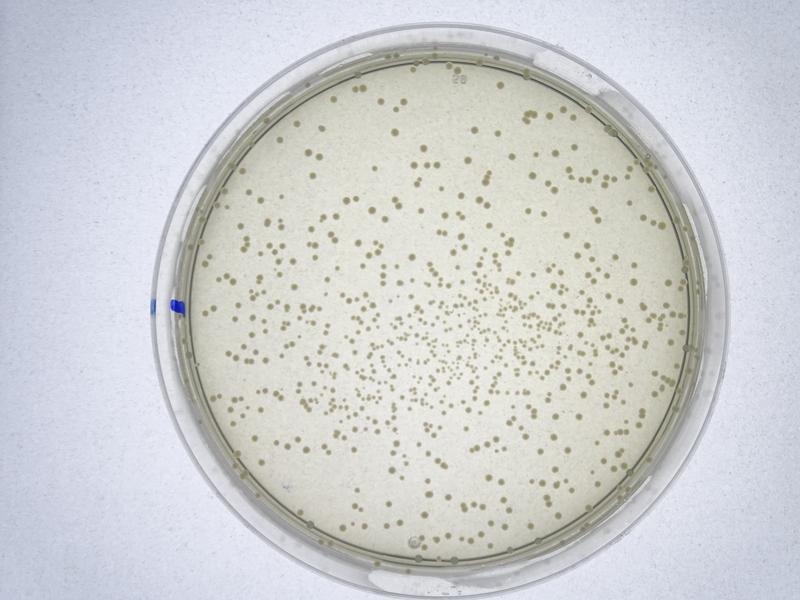colony: (369, 160, 382, 177), (556, 227, 572, 240), (608, 249, 620, 263), (572, 411, 586, 423), (314, 122, 327, 134), (461, 155, 475, 166), (469, 124, 480, 136), (247, 433, 259, 444), (307, 169, 317, 182), (388, 127, 401, 137), (462, 422, 472, 435), (627, 277, 641, 286), (406, 251, 417, 261), (535, 446, 545, 457), (508, 151, 518, 161), (289, 282, 299, 292), (321, 274, 331, 284), (528, 171, 537, 181), (351, 446, 358, 455)
